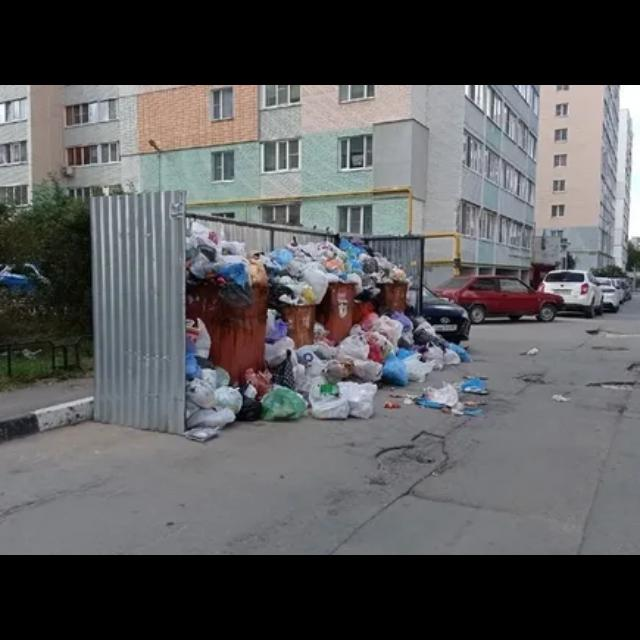Trash_Can_Full: (185, 220, 272, 388), (269, 249, 319, 349), (319, 241, 359, 346), (375, 251, 410, 316)
